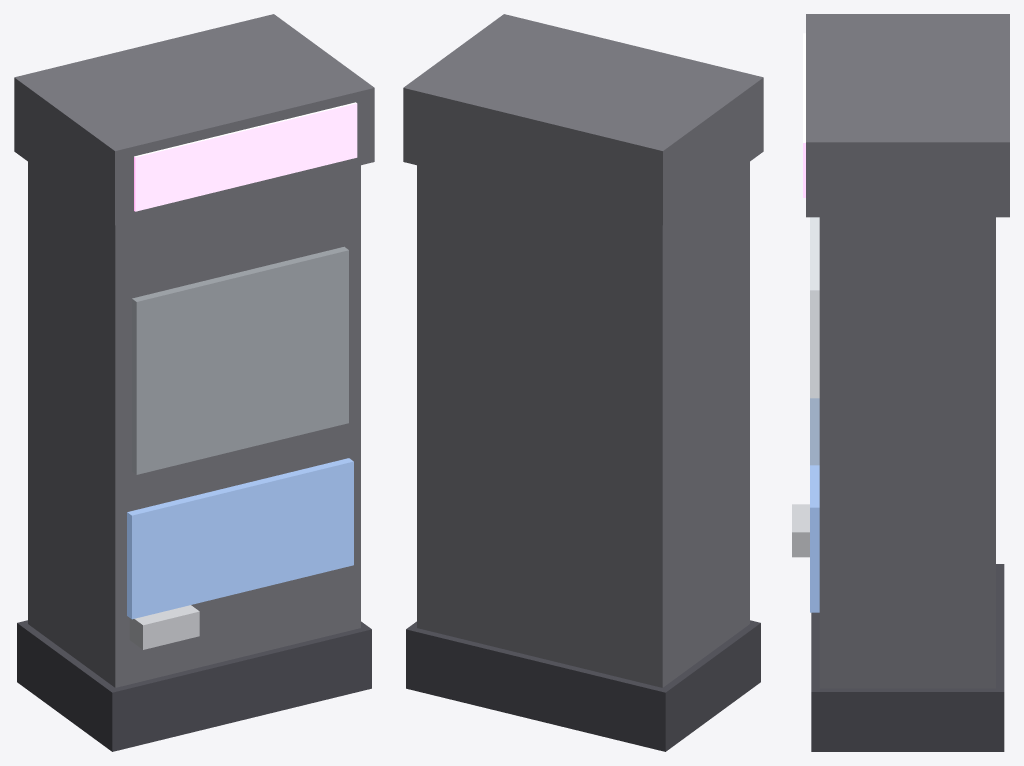
File: casino-floor-and-back-rooms-ticket-redemption-5111cbf9__27019.glb
3 renders of one model, left to right at view 1: azimuth 30°, elevation 25°; view 2: azimuth 150°, elevation 25°; view 3: azimuth 270°, elevation 25°, orthographic.
Parts seen in each view (by area): view 1: ticket-redemption; view 2: ticket-redemption; view 3: ticket-redemption.
Part boxes in pixels (x1=…): ticket-redemption: x1=14, y1=14, x2=374, y2=751; ticket-redemption: x1=403, y1=14, x2=763, y2=751; ticket-redemption: x1=792, y1=14, x2=1009, y2=751.
Bounding box in the file's own units: 1.1 × 2.44 × 0.79.
